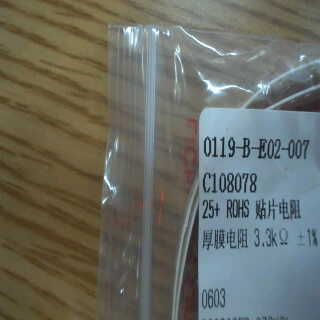3.3kO: (250, 223, 292, 250)
